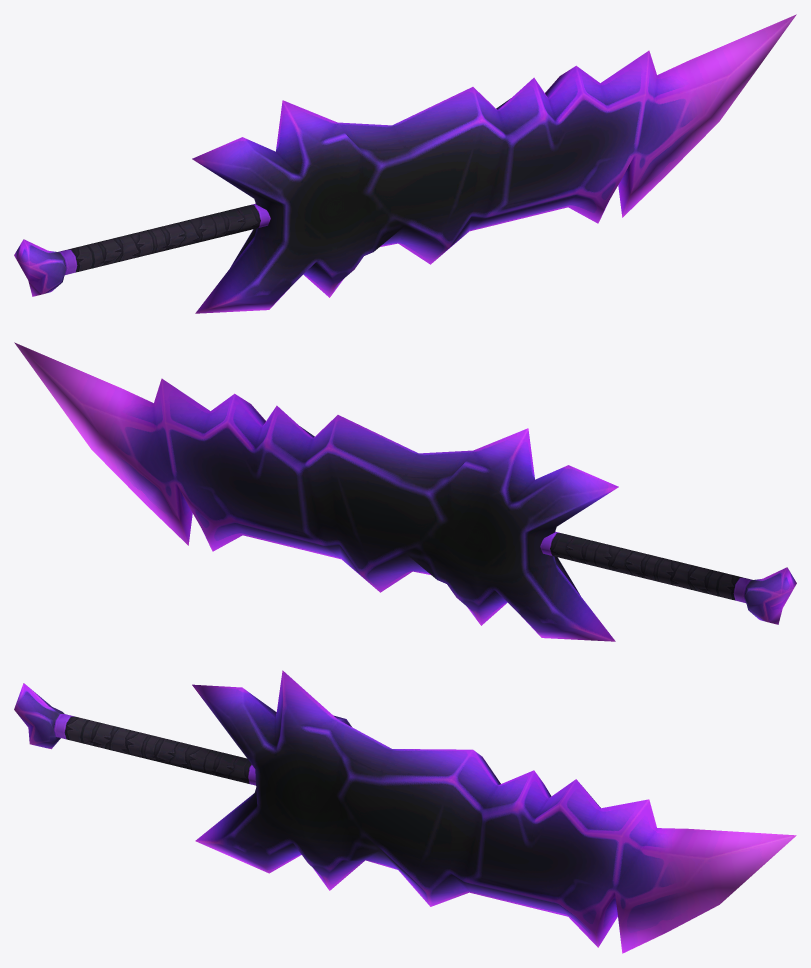
File: item_weaswtmgm2501-et01.glb
3 renders of one model, top to bottom at view 1: azimuth 30°, elevation 25°; view 2: azimuth 150°, elevation 25°; view 3: azimuth 330°, elevation 25°, orthographic.
Visible parts, largest first — view 1: FlyffMesh; view 2: FlyffMesh; view 3: FlyffMesh.
Boxes of the visible parts, <box> form: FlyffMesh: <box>14,14,796,313</box>; FlyffMesh: <box>14,342,796,641</box>; FlyffMesh: <box>14,670,796,953</box>.
Bounding box in the file's own units: 2.15 × 0.5514 × 0.1482.
1 material, 1 textured.
